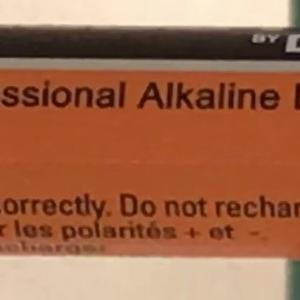ALK: (127, 72, 195, 119)
